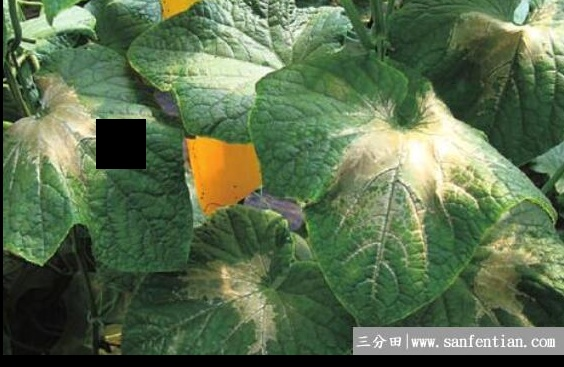cucumber_plant: (260, 47, 530, 320), (12, 32, 198, 271)
